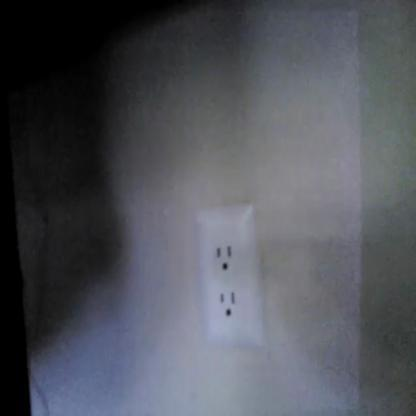OUTLET: (196, 206, 264, 348)
